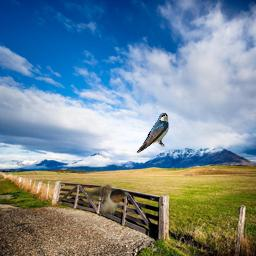Swallow: (135, 111, 170, 154), (86, 184, 127, 217)
